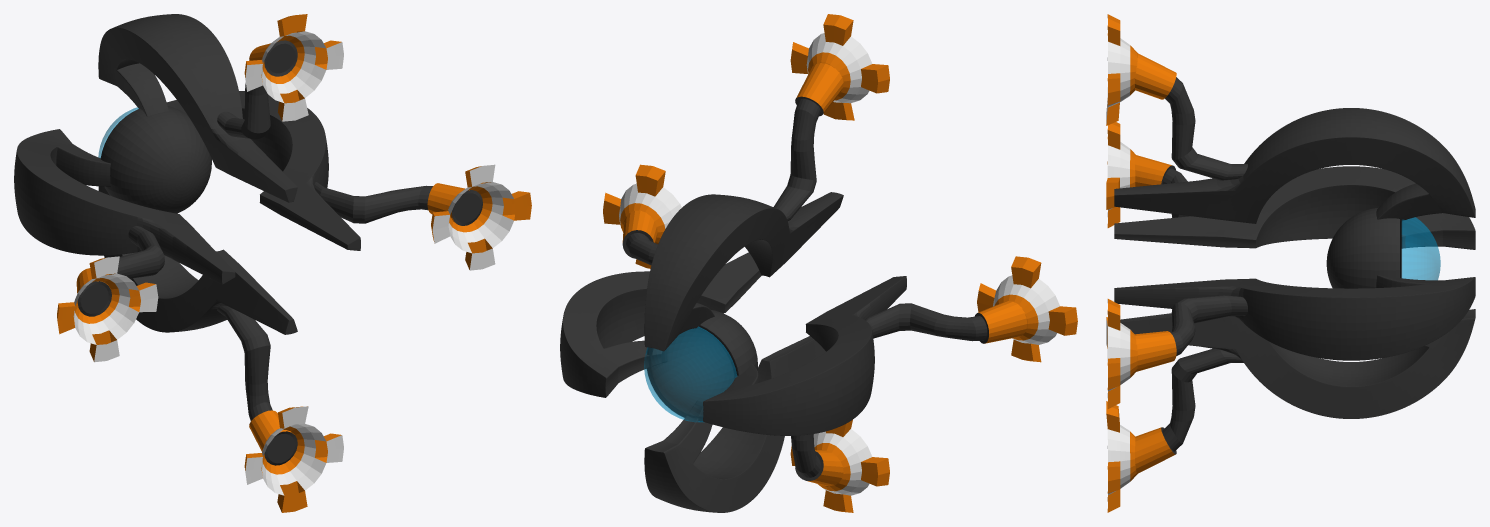
File: Space ship 1.fbx
The picture shows the model from 3 angles, left to right: view 1: azimuth 30°, elevation 25°; view 2: azimuth 150°, elevation 25°; view 3: azimuth 270°, elevation 25°; orthographic projection.
Visible parts, largest first — view 1: SPACE SHIP.002, SPACE SHIP.004, SPACE SHIP.005, SPACE SHIP.001; view 2: SPACE SHIP.002, SPACE SHIP.004, SPACE SHIP.005, SPACE SHIP.001; view 3: SPACE SHIP.002, SPACE SHIP.005, SPACE SHIP.004, SPACE SHIP.001.
Boxes of the visible parts, x1,y1,x2,y2 form: SPACE SHIP.002: (14,14,360,334); SPACE SHIP.004: (57,14,531,512); SPACE SHIP.005: (76,40,482,465); SPACE SHIP.001: (98,106,211,213); SPACE SHIP.002: (560,192,906,512); SPACE SHIP.004: (603,14,1077,512); SPACE SHIP.005: (622,63,1027,486); SPACE SHIP.001: (644,310,757,422); SPACE SHIP.002: (1114,108,1475,418); SPACE SHIP.005: (1135,53,1247,473); SPACE SHIP.004: (1106,14,1137,512); SPACE SHIP.001: (1326,207,1440,288).
Size of the model in its own units: 562 by 562 by 384.
